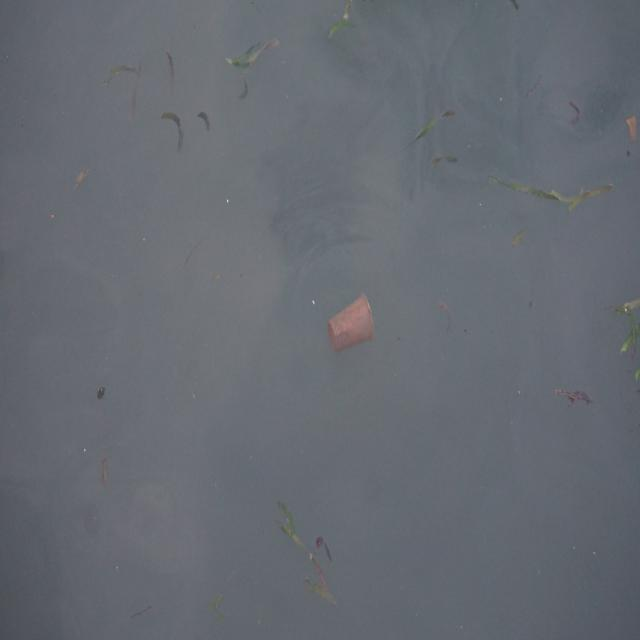Bungkus Minuman: (326, 286, 379, 355)
